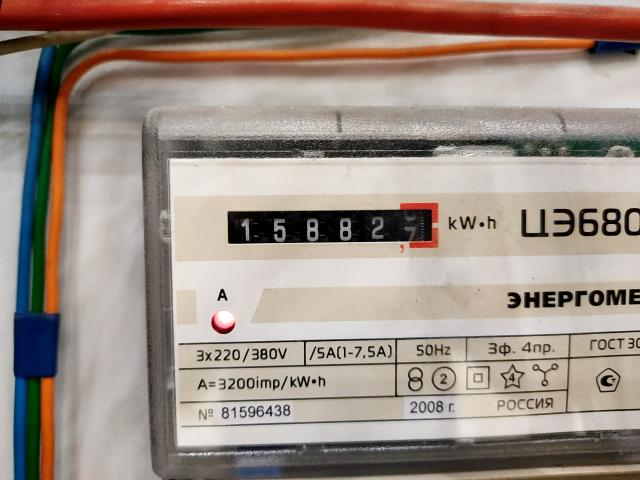1: (239, 215, 253, 243)
2: (370, 214, 386, 242)
5: (271, 216, 289, 243)
7: (402, 224, 418, 241)
8: (304, 216, 320, 244), (338, 215, 353, 243)
screen: (214, 195, 449, 257)
